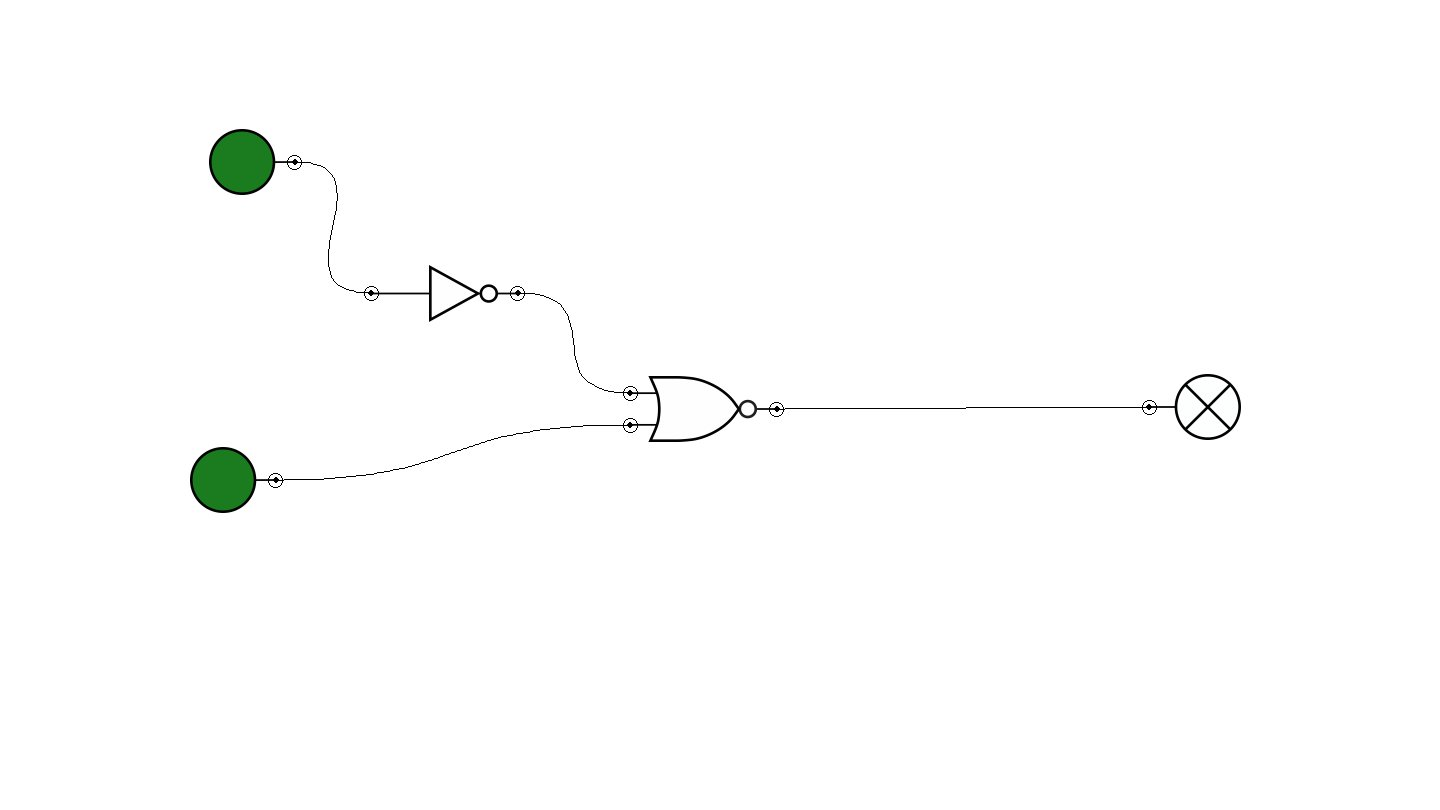bulb: (1142, 374, 1241, 440)
nor: (623, 376, 784, 442)
not: (364, 265, 525, 322)
switch_True: (190, 447, 283, 513), (209, 129, 302, 195)
